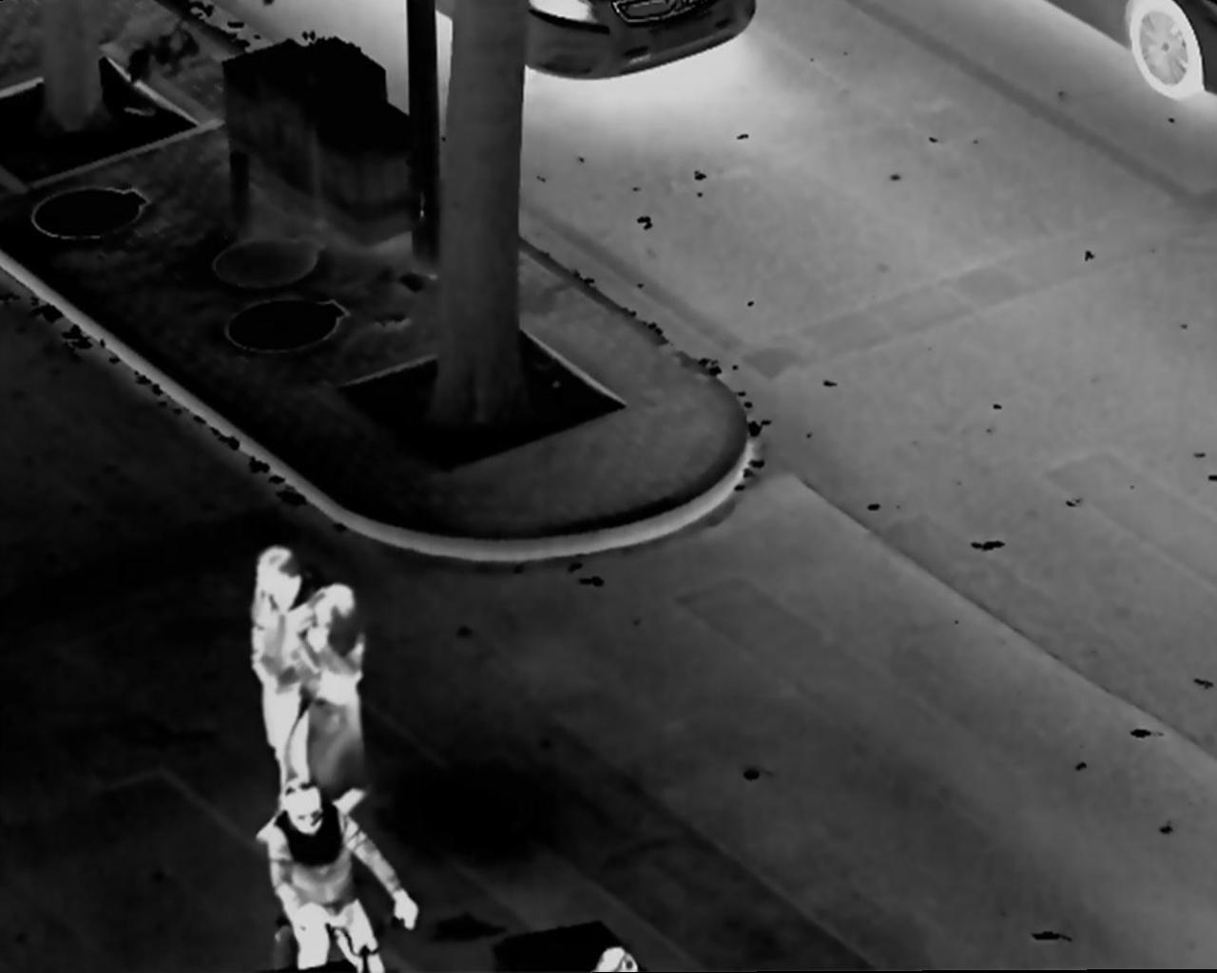person: (254, 779, 422, 971), (285, 577, 373, 823), (239, 540, 311, 836)
